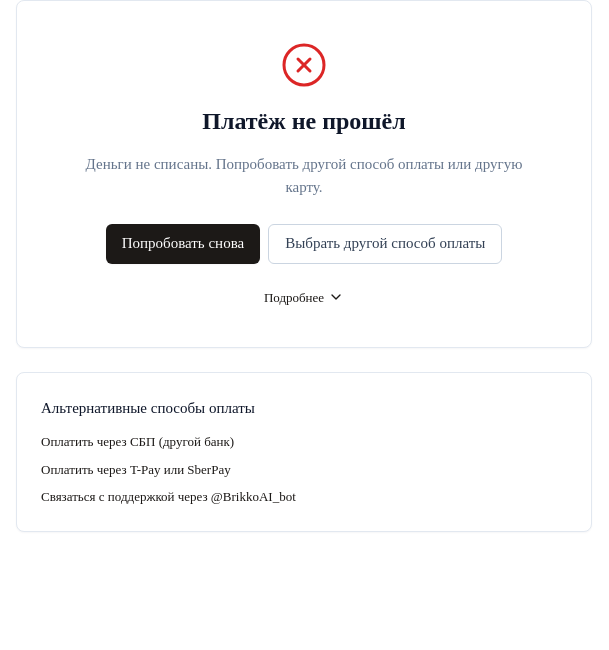
<PaymentFailurePage> › reason=card_declined — после клика «Подробнее» виден детальный текст
The image size is (609, 650).
Click the button with test id "payment-failure-toggle-detail" at (304, 297), box [264, 288, 344, 307]
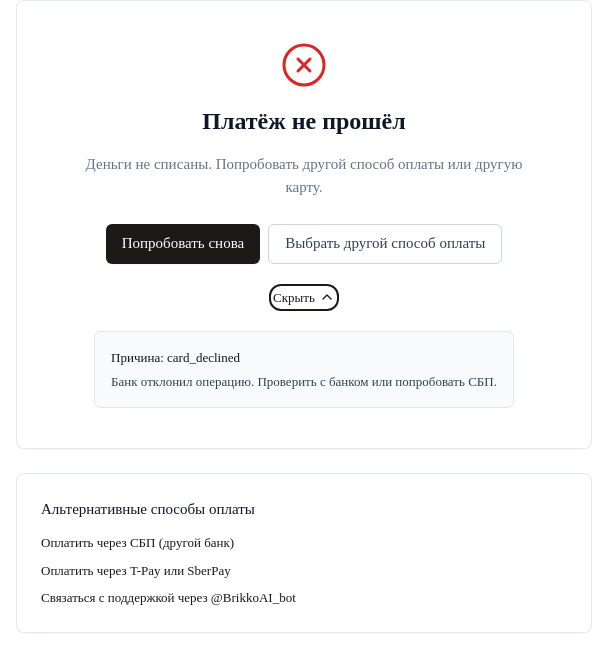
Result: the element with test id "payment-failure-detail" shows "Банк отклонил" at [111, 374, 497, 388]
